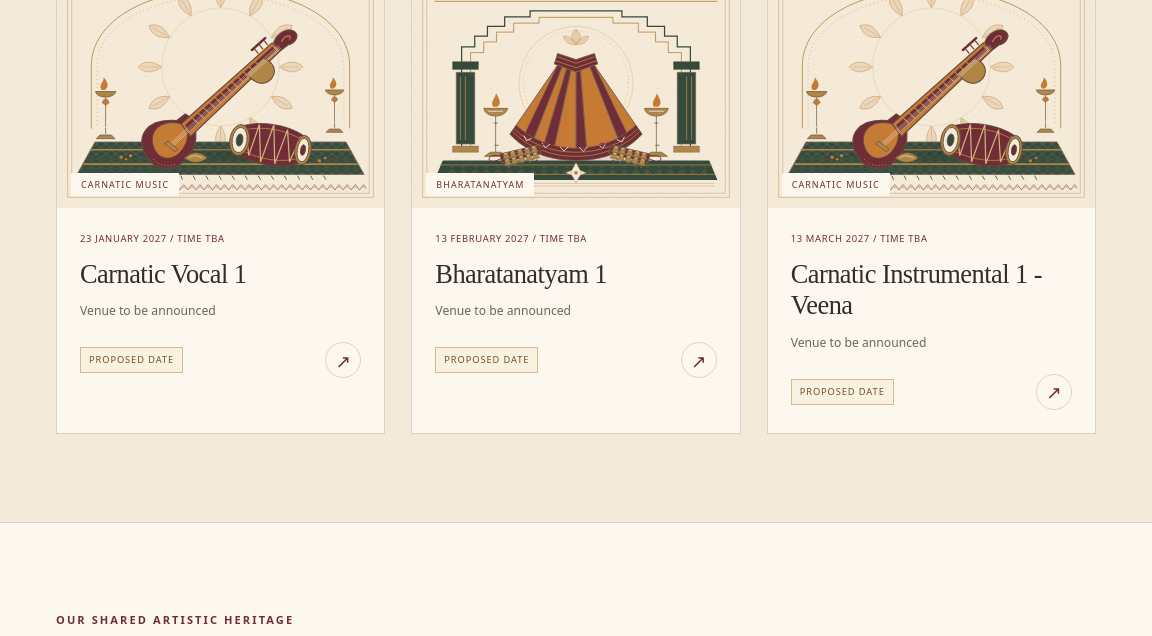
Test case: Kalavedike pages › opens the first fixture event and displays its proposed date with time and venue TBA
(page scrolled)
Click the link named "Details for Carnatic Vocal 1": point(343, 360) [325,342,361,378]
(page scrolled)
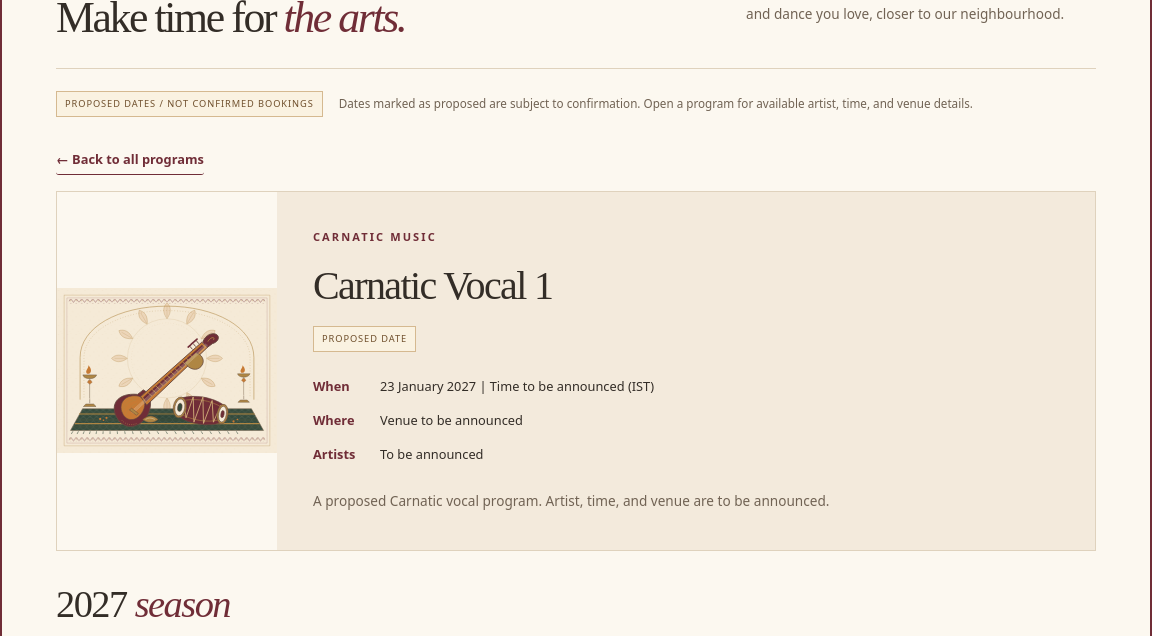
Expected: the heading "2027 season" is shown, [56,583,230,625]
Expected: the element "Carnatic Vocal 1" shows "23 January 2027 | Time to be announced (IST)", [380,377,654,395]
Expected: the element "Carnatic Vocal 1" shows "Venue to be announced", [380,411,523,429]
